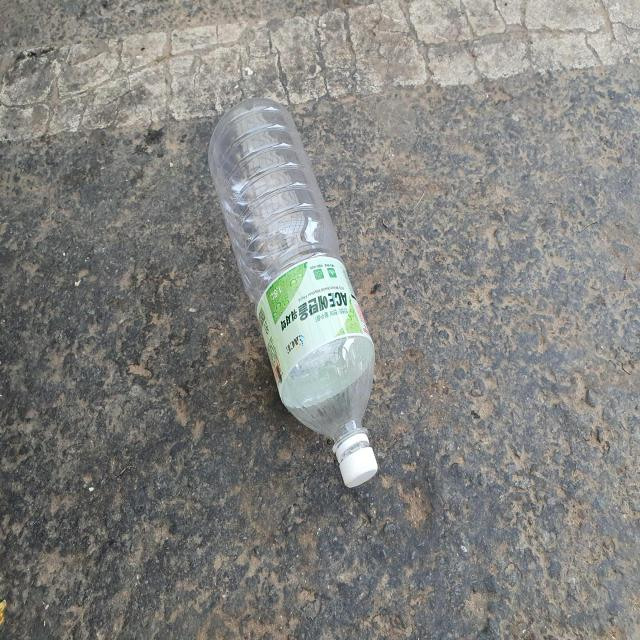plastic: (208, 97, 378, 488)
